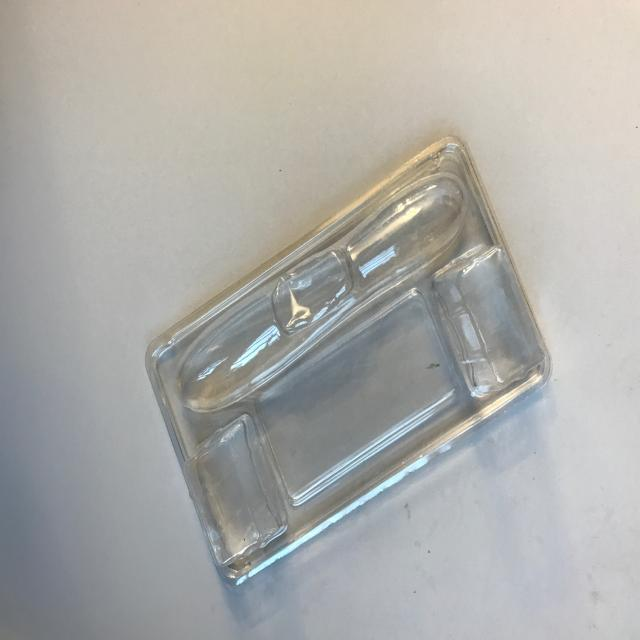plastic: (145, 135, 552, 586)
